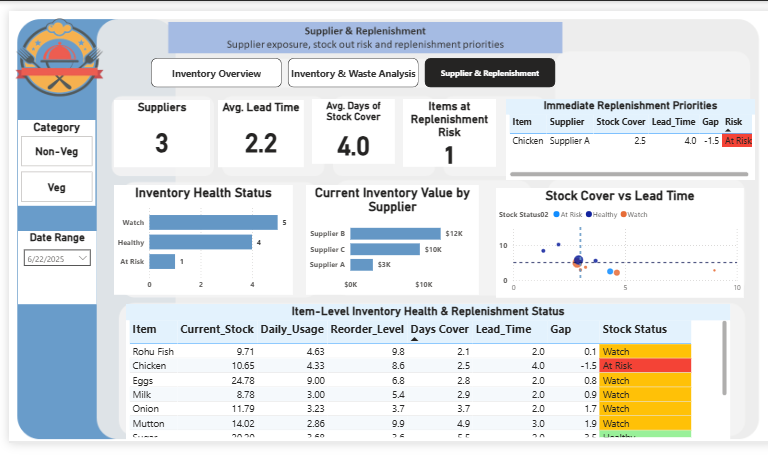

What the dashboard file says about the page in this screenshot:
{"tool":"powerbi","page":{"name":"Supplier & Replenishment","canvas":[1280,720],"ordinal":2},"visuals":[{"type":"card","title":"Suppliers","fields":{"Values":["_Measure.Unique Suppliers"]},"box":[174.9,145.5,166,126.4],"z":0},{"type":"card","title":"Avg. Lead Time","fields":{"Values":["_Measure.Average Lead Time"]},"box":[361.5,138.1,163.1,135.2],"z":1000},{"type":"card","title":"Items at Replenishment Risk","fields":{"Values":["_Measure.Items With Stock Coverage Risk"]},"box":[540.7,138.1,164.6,135.2],"z":2000},{"type":"card","title":"Replenishment Risk Rate","fields":{"Values":["_Measure.Stock Coverage Risk %"]},"box":[725.9,144,164.6,127.8],"z":3000},{"type":"clusteredBarChart","title":"Current Inventory Value by Supplier","fields":{"Category":["Fact_Inventory.Supplier_Name"],"Y":["_Measure.Current Inventory Value"]},"box":[495,290,288.3,183.3],"z":4000},{"type":"clusteredBarChart","title":"Estimated Waste Value by Supplier","fields":{"Category":["Fact_Inventory.Supplier_Name"],"Y":["_Measure.Waste Value"]},"box":[918.4,73.5,321.8,189.6],"z":5000},{"type":"clusteredBarChart","title":"Inventory Health Status","fields":{"Category":["Fact_Inventory.Stock Status02"],"Y":["Count(Fact_Inventory.Item_ID)"]},"box":[175,290,298.3,183.3],"z":6000},{"type":"slicer","title":"Date Range","fields":{"Values":["Dim_Date.Date"]},"box":[14.7,426.1,129.3,163.1],"z":7000},{"type":"pageNavigator","box":[236.6,77.9,675.9,50],"z":8000},{"type":"tableEx","title":"Item-Level Inventory Health & Replenishment Status","fields":{"Values":["Fact_Inventory.Item_Name","Fact_Inventory.Current_Stock","Fact_Inventory.Daily_Usage","Fact_Inventory.Reorder_Level","_Measure.Average Days of Stock Cover","Fact_Inventory.Lead_Time","_Measure.Stock Cover Gap","Fact_Inventory.Stock Status02"]},"box":[195.7,488.6,1007.1,227.1],"z":9000},{"type":"tableEx","title":"Immediate Replenishment Priorities","fields":{"Values":["Fact_Inventory.Item_Name","Fact_Inventory.Supplier_Name","_Measure.Average Days of Stock Cover","Fact_Inventory.Lead_Time","_Measure.Stock Cover Gap","Fact_Inventory.Stock Status02"]},"box":[797.3,289.9,454.7,182.9],"z":10000},{"type":"advancedSlicerVisual","title":"Category","fields":{"Values":["Fact_Inventory.Category"]},"box":[14.7,182.2,129.3,142.5],"z":11000}]}

Visuals, with their boxes on the page's 1280x720 design canvas (x1, y1, x2, y2). These are canvas units, not pixel positions in the 768x456 screenshot, which may show the page scaled, cropped or inside an application window:
"Suppliers" card: [left=175, top=146, right=341, bottom=272]
"Avg. Lead Time" card: [left=362, top=138, right=525, bottom=273]
"Items at Replenishment Risk" card: [left=541, top=138, right=705, bottom=273]
"Replenishment Risk Rate" card: [left=726, top=144, right=890, bottom=272]
"Current Inventory Value by Supplier" clusteredBarChart: [left=495, top=290, right=783, bottom=473]
"Estimated Waste Value by Supplier" clusteredBarChart: [left=918, top=74, right=1240, bottom=263]
"Inventory Health Status" clusteredBarChart: [left=175, top=290, right=473, bottom=473]
"Date Range" slicer: [left=15, top=426, right=144, bottom=589]
pageNavigator: [left=237, top=78, right=912, bottom=128]
"Item-Level Inventory Health & Replenishment Status" tableEx: [left=196, top=489, right=1203, bottom=716]
"Immediate Replenishment Priorities" tableEx: [left=797, top=290, right=1252, bottom=473]
"Category" advancedSlicerVisual: [left=15, top=182, right=144, bottom=325]
